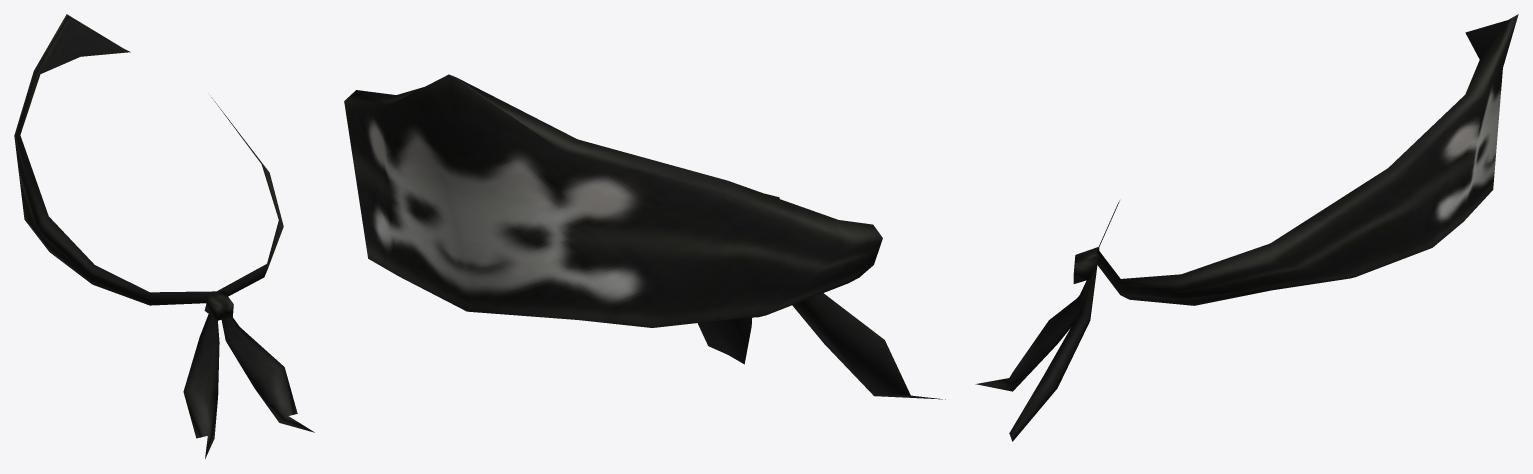
The model's file is pirateBandanaR.glb.
3 views of the same model, side by side, from view 1: azimuth 30°, elevation 25°; view 2: azimuth 150°, elevation 25°; view 3: azimuth 270°, elevation 25° (orthographic). The views are drawn at different scales.
Parts seen in each view (by area): view 1: pirateBandanaR; view 2: pirateBandanaR; view 3: pirateBandanaR.
Part boxes in pixels (left/top/right/bottom): pirateBandanaR: left=14, top=14, right=314, bottom=458; pirateBandanaR: left=344, top=74, right=945, bottom=399; pirateBandanaR: left=975, top=14, right=1518, bottom=441.
Bounding box in the file's own units: 0.2358 × 0.287 × 0.3464.
Materials: 1 (1 with a texture image).
